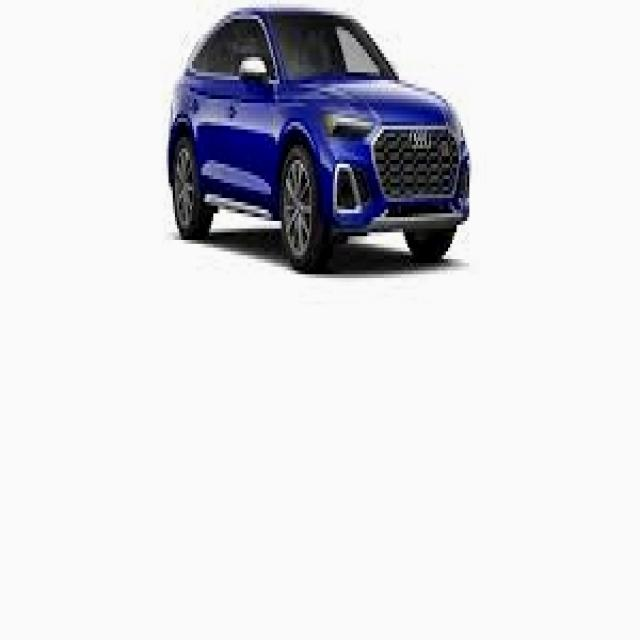blue: (166, 5, 467, 267)
